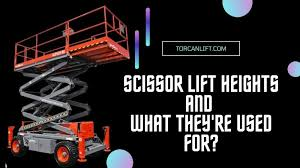Scissor Lift: (7, 4, 131, 167)
